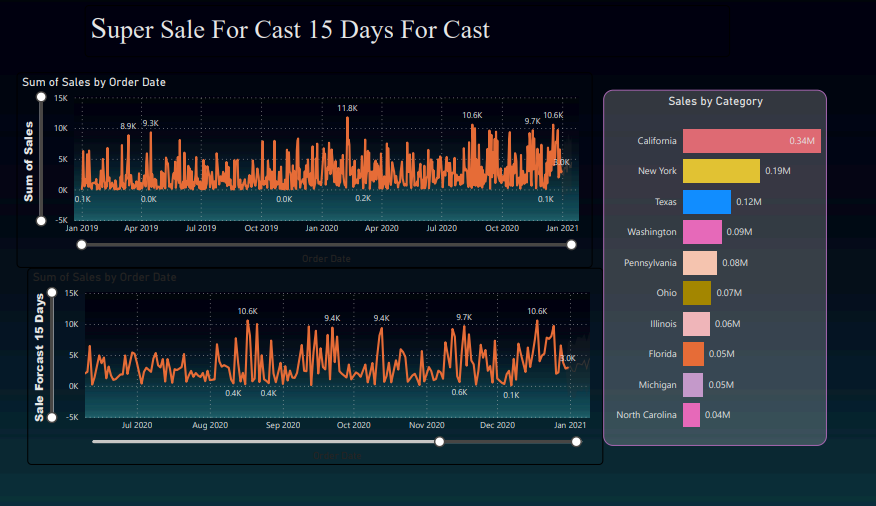

The dashboard page shown, as its layout file describes it:
{"tool":"powerbi","page":{"name":"Page 2","canvas":[1280,720],"ordinal":1},"visuals":[{"type":"lineChart","fields":{"Y":["Sum(SuperStore_Sales_Dataset.Sales)"],"Category":["SuperStore_Sales_Dataset.Order Date"]},"box":[34.7,120.8,822.2,279.2],"z":0},{"type":"lineChart","fields":{"Y":["Sum(SuperStore_Sales_Dataset.Sales)"],"Category":["SuperStore_Sales_Dataset.Order Date"]},"box":[50,400,822.2,280.6],"z":1000},{"type":"clusteredBarChart","title":"Sales by Category","fields":{"Category":["SuperStore_Sales_Dataset.State"],"Y":["Sum(SuperStore_Sales_Dataset.Sales)"]},"box":[872.2,145.8,319.4,508.3],"z":2000},{"type":"textbox","box":[131.9,25,920.8,73.6],"z":2001}]}

Visuals, with their boxes in screenshot pixels (x1, y1, x2, y2), scaled from the page's 1280x720 canvas onto the 876x506 screenshot:
lineChart - Sum(SuperStore_Sales_Dataset.Sales) x SuperStore_Sales_Dataset.Order Date: box=[24, 85, 586, 281]
lineChart - Sum(SuperStore_Sales_Dataset.Sales) x SuperStore_Sales_Dataset.Order Date: box=[34, 281, 597, 478]
"Sales by Category" clusteredBarChart: box=[597, 102, 816, 460]
textbox: box=[90, 18, 720, 69]
